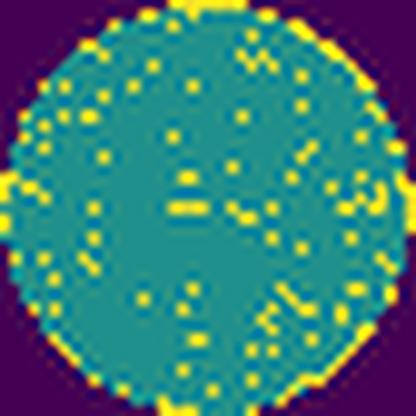Edge-Loc: (288, 16, 379, 91), (172, 0, 250, 25), (395, 174, 416, 238)
